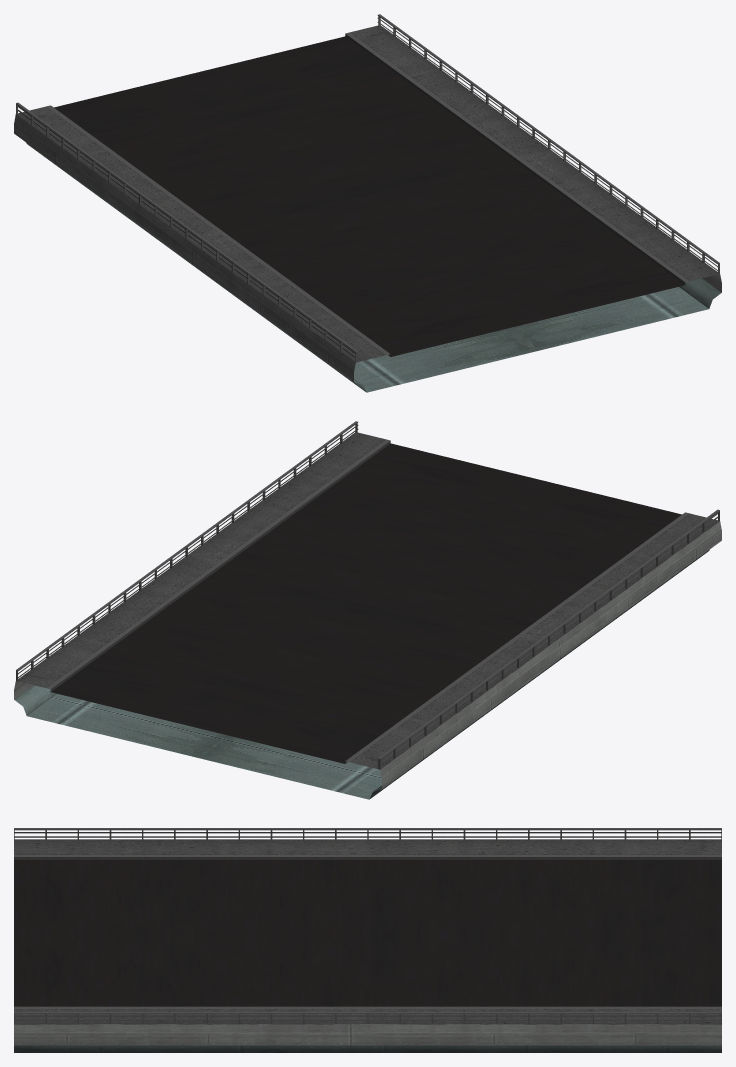
Rendered from RJs_Road 4+4 Elevated Node.fbx.
The picture shows the model from 3 angles, top to bottom: view 1: azimuth 30°, elevation 25°; view 2: azimuth 150°, elevation 25°; view 3: azimuth 270°, elevation 25°; orthographic projection. The views are drawn at different scales.
Visible parts, largest first — view 1: plane; view 2: plane; view 3: plane.
Boxes of the visible parts, x1,y1,x2,y2 form: plane: [14, 14, 721, 392]; plane: [14, 421, 721, 799]; plane: [14, 828, 721, 1052].
Bounding box in the file's own units: 4000 × 6400 × 451.
